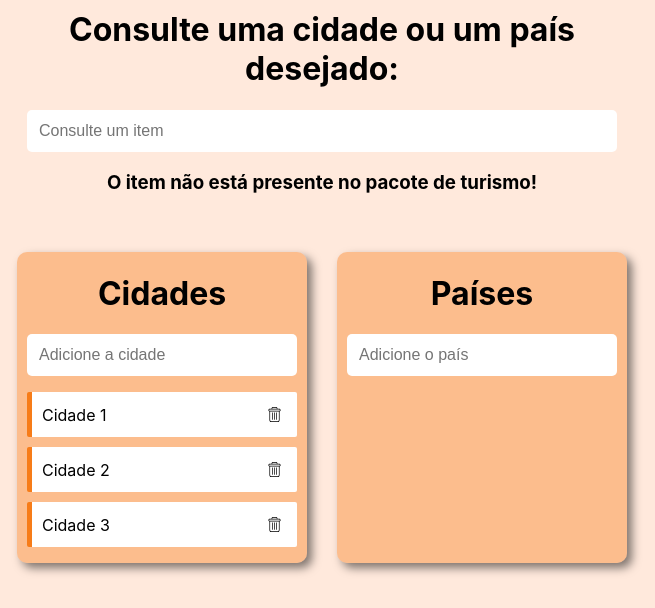
Test: Componente de aplicativo › Quando uma cidade é deletada › É removido da lista
The width and height of the screenshot is (655, 608).
Click the button without text next to "Cidade 1" at (274, 415), box [262,402,287,427]
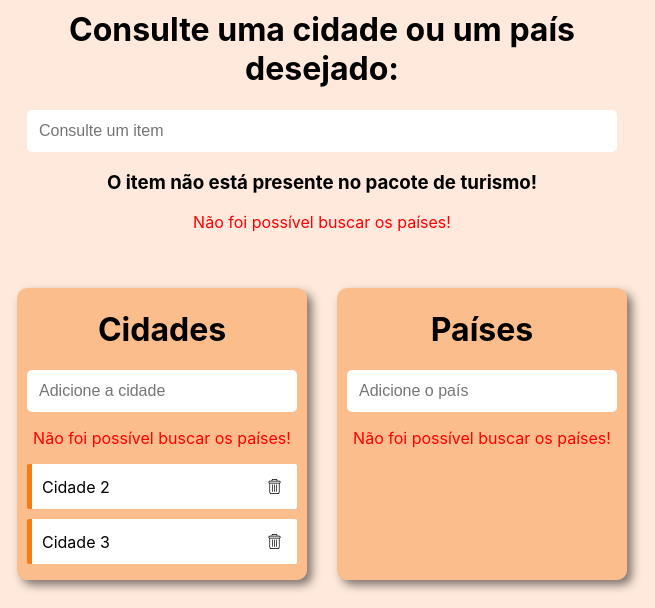
Check: the list item "Cidade 1" is gone
